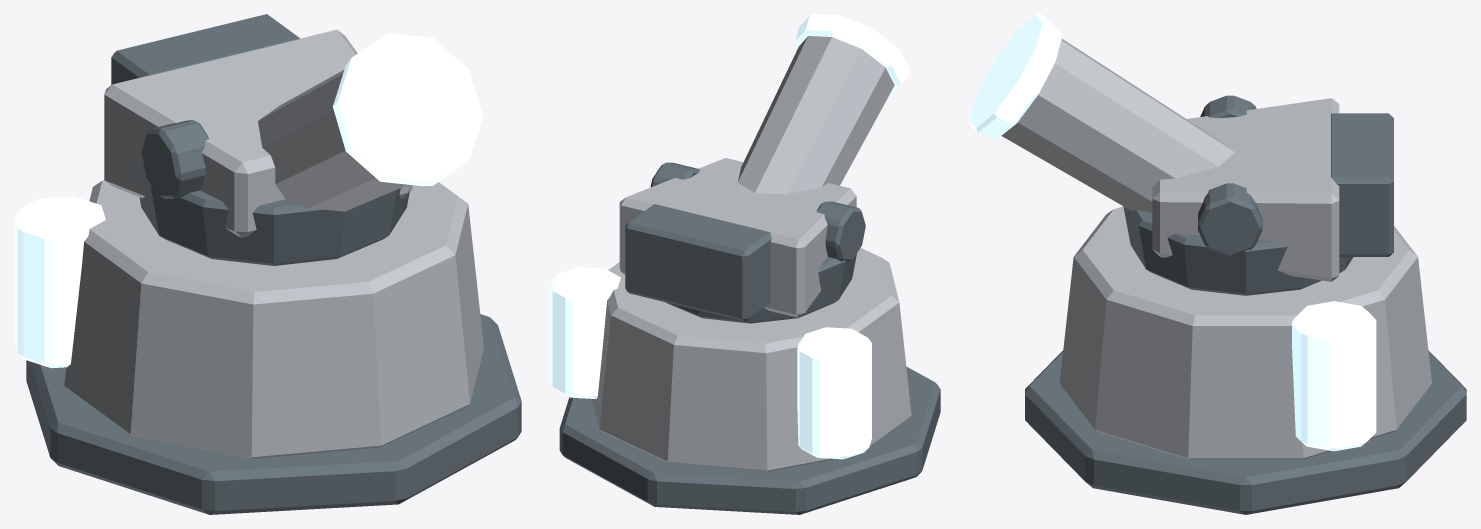
File: frost_mortar.glb
3 renders of one model, left to right at view 1: azimuth 30°, elevation 25°; view 2: azimuth 150°, elevation 25°; view 3: azimuth 270°, elevation 25°, orthographic. The views are drawn at different scales.
Parts seen in each view (by area): view 1: Plinth, Base, TurretHead, Muzzle, Collar, CoolantTank, Barrel, Counterweight, Trunnion; view 2: Plinth, Base, CoolantTank, Barrel, Counterweight, TurretHead, Muzzle, Trunnion, Collar; view 3: Plinth, Base, TurretHead, Barrel, CoolantTank, Counterweight, Collar, Muzzle, Trunnion.
Boxes of the visible parts, box(x1,y1,x2,y2) form: Plinth: box(64, 180, 483, 458); Base: box(26, 314, 521, 514); TurretHead: box(104, 29, 412, 237); Muzzle: box(333, 33, 482, 186); Collar: box(138, 163, 409, 265); CoolantTank: box(14, 196, 105, 368); Barrel: box(258, 69, 407, 211); Counterweight: box(111, 14, 300, 84); Trunnion: box(141, 120, 208, 198); Plinth: box(592, 248, 911, 471); Base: box(559, 366, 940, 514); CoolantTank: box(550, 267, 871, 459); Barrel: box(737, 36, 894, 194); Counterweight: box(625, 204, 771, 321); TurretHead: box(619, 158, 856, 317); Muzzle: box(795, 14, 910, 95); Trunnion: box(650, 162, 865, 261); Collar: box(665, 253, 856, 323); Plinth: box(1059, 206, 1431, 459); Base: box(1025, 350, 1466, 514); TurretHead: box(1152, 98, 1339, 281); Barrel: box(1001, 38, 1234, 212); CoolantTank: box(1292, 301, 1376, 451); Counterweight: box(1331, 113, 1393, 256); Collar: box(1123, 206, 1353, 295); Muzzle: box(969, 14, 1061, 138); Trunnion: box(1198, 95, 1262, 256).
Bounding box in the file's own units: 1.7 × 1.71 × 1.92.
